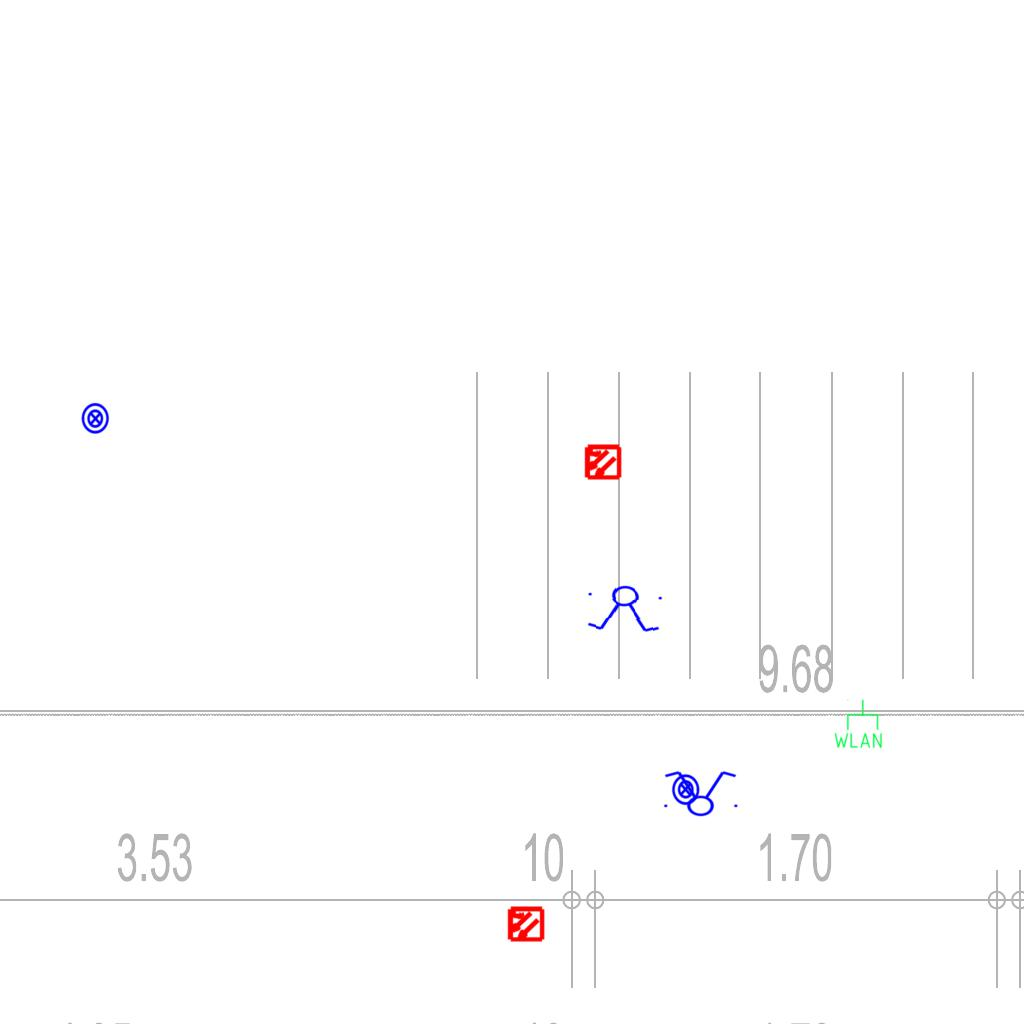OT_Multisensormelder_(Kombination_RMO_WMD): (574, 434, 630, 490), (497, 896, 553, 952)
Serienschalter: (581, 582, 669, 636), (658, 769, 742, 817)
Taster_beleuchtet: (79, 402, 112, 435), (669, 773, 702, 806)
WLAN: (832, 698, 884, 750)
